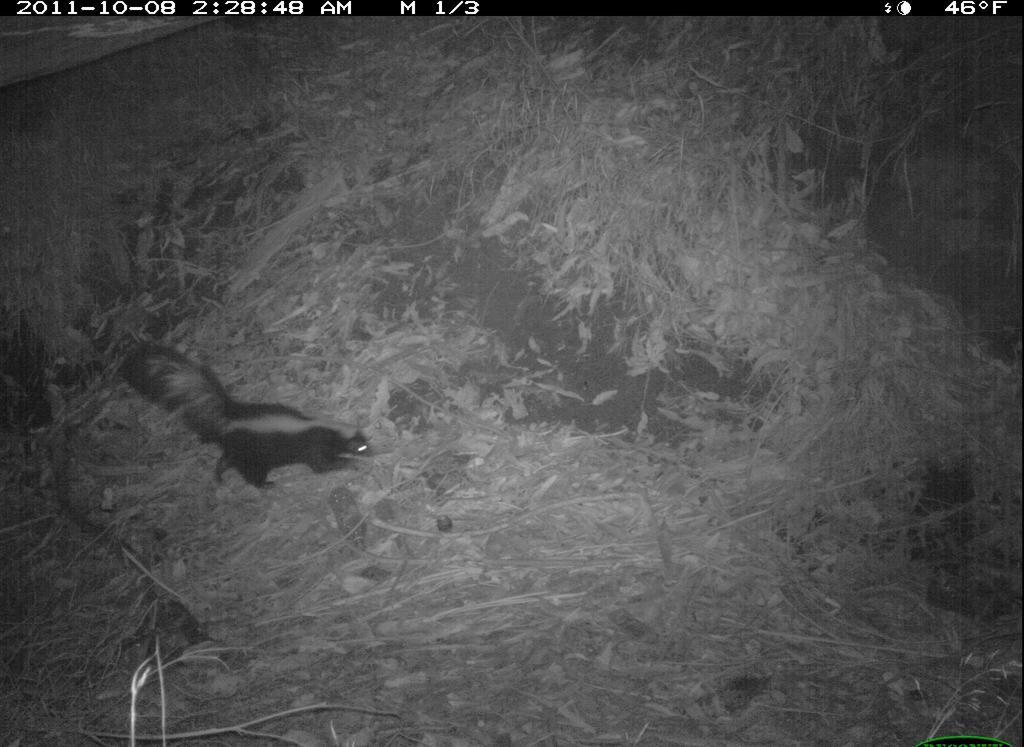skunk: (121, 317, 397, 500)
